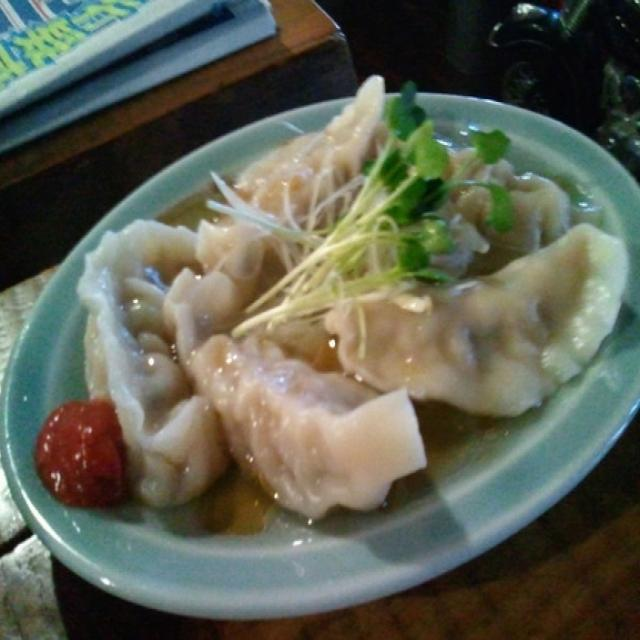带馅早点: (60, 108, 603, 532)
